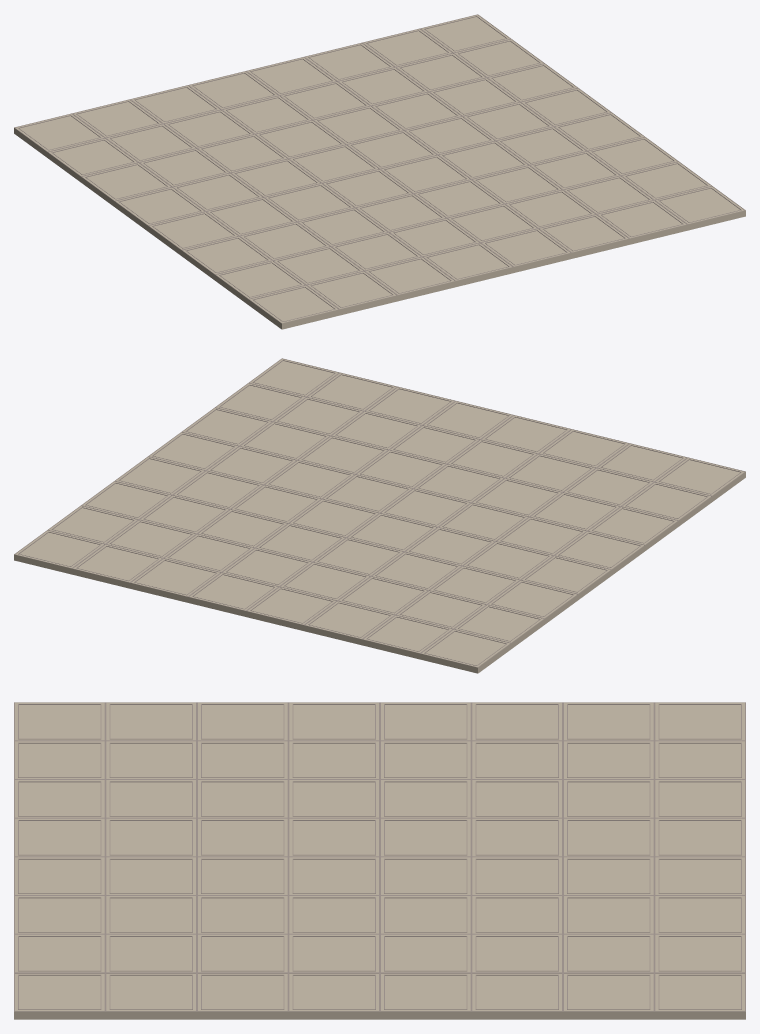
Rendered from sideWalkTileLarge.fbx.
3 views of the same model, one above another, from view 1: azimuth 30°, elevation 25°; view 2: azimuth 150°, elevation 25°; view 3: azimuth 270°, elevation 25° (orthographic). The views are drawn at different scales.
Parts seen in each view (by area): view 1: Cube.021; view 2: Cube.021; view 3: Cube.021.
Boxes of the visible parts, left/top/right/bottom form: Cube.021: left=14, top=14, right=745, bottom=329; Cube.021: left=14, top=358, right=745, bottom=673; Cube.021: left=14, top=702, right=745, bottom=1019.
Size of the model in its own units: 1600 by 20 by 1600.
